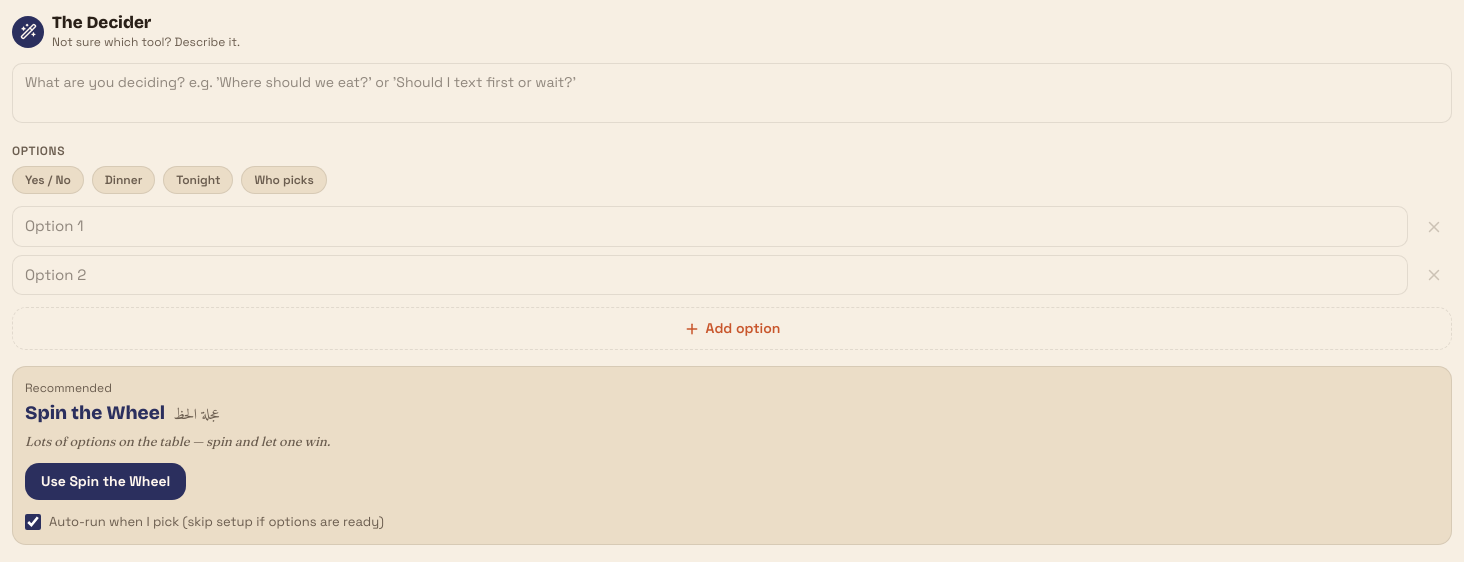
Scenario: TheDecider › recommendation reacts to description › recommends Pros & Cons (weigh) for an important decision
Check: the text with test id "decider-pick" reads "Spin the Wheel", box [25,401,165,424]
Type "this is an important decision" into the text box with test id "decider-description" at (732,93), box [12,63,1452,123]
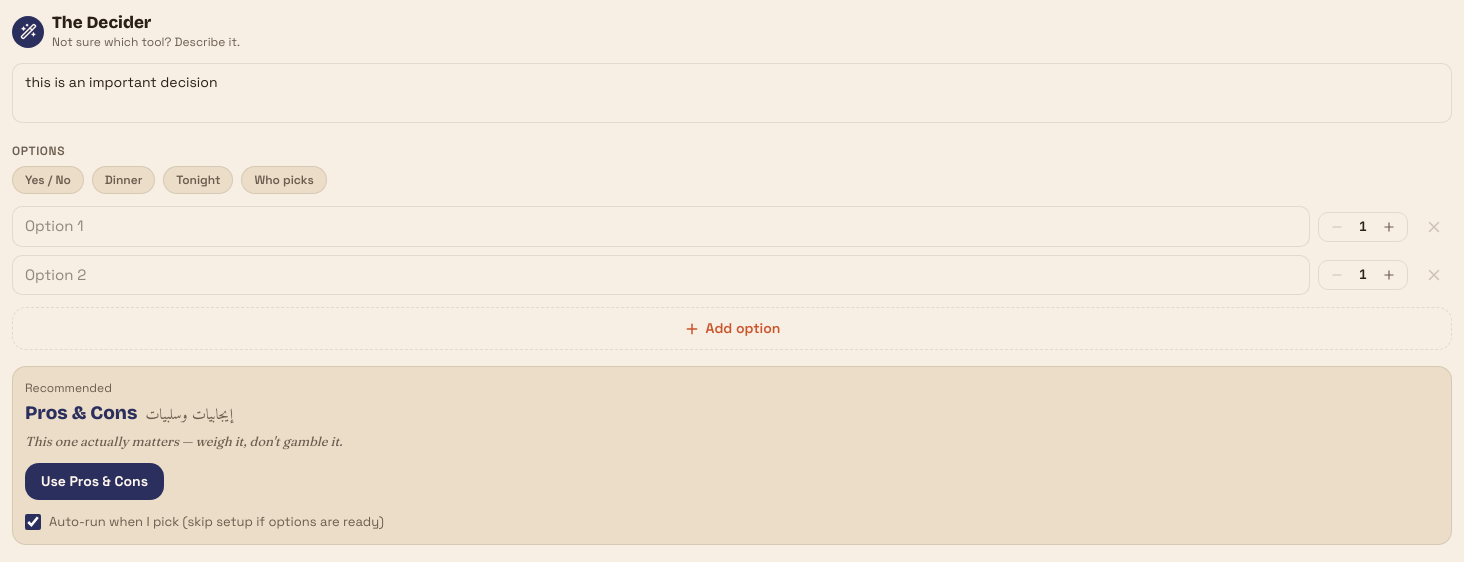
Check: the text with test id "decider-pick" reads "Pros & Cons", box [25,401,137,424]
